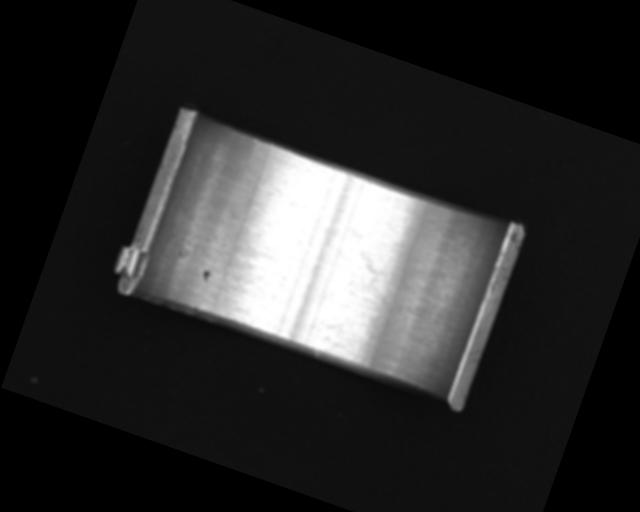blot: (343, 247, 404, 309)
bruise: (199, 267, 214, 285)
nick: (387, 197, 415, 240)
